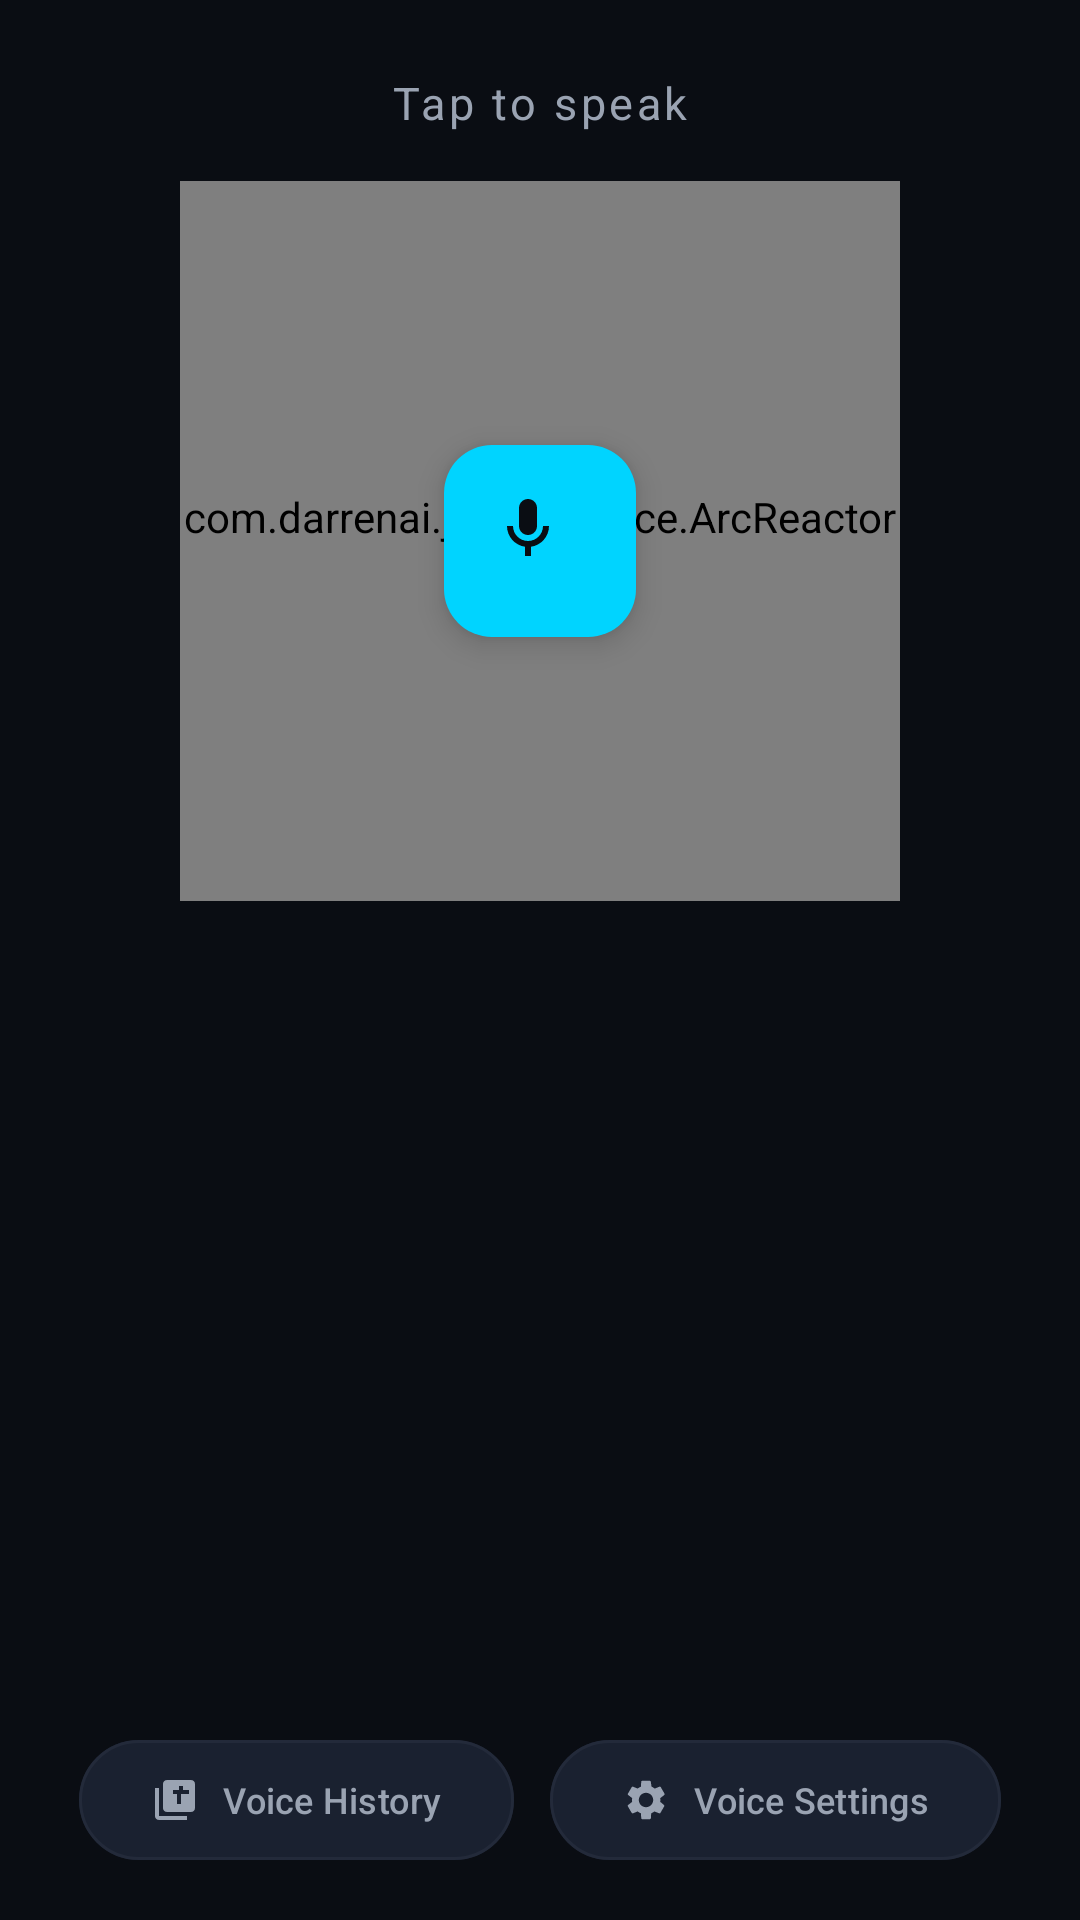

Icon click points for this 1080w x 1920h phone screenshot, format (x,y):
Tap to speak: (540,541)
